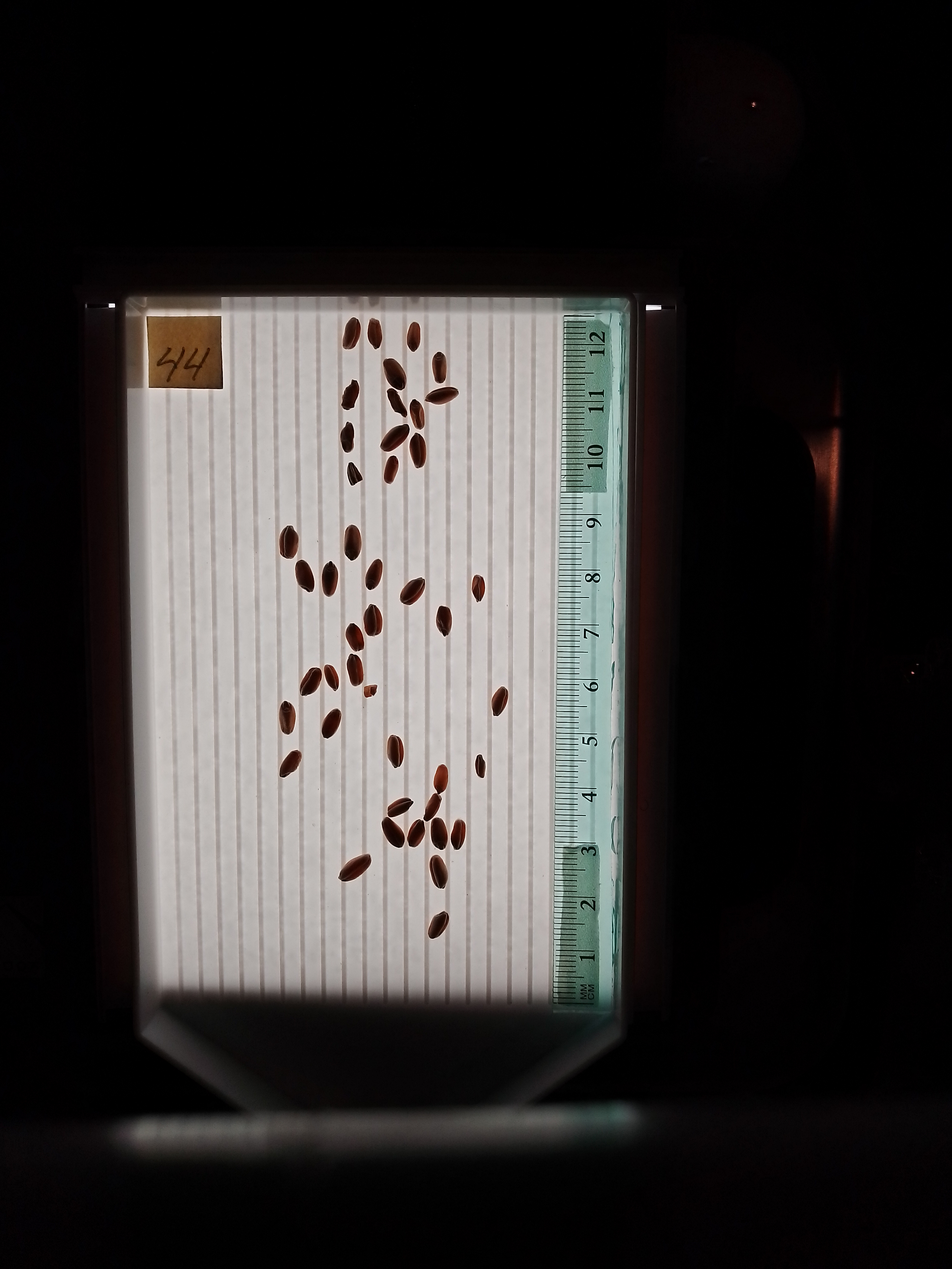seed mask: (340, 854, 371, 881), (383, 358, 406, 390), (381, 425, 408, 452), (382, 818, 405, 848), (401, 577, 424, 605), (279, 526, 298, 559), (296, 560, 314, 593), (279, 751, 301, 778), (364, 605, 383, 636), (321, 709, 341, 738), (344, 526, 361, 560), (300, 668, 321, 695), (409, 435, 426, 468), (321, 562, 338, 595), (430, 855, 447, 888), (427, 387, 458, 405), (428, 912, 449, 938), (279, 702, 296, 734), (387, 735, 404, 767), (431, 818, 448, 850), (365, 560, 383, 590), (343, 318, 360, 349), (347, 655, 364, 685), (408, 819, 425, 848), (367, 319, 383, 349), (342, 381, 359, 409), (491, 687, 508, 715), (387, 797, 412, 816), (346, 624, 363, 651), (433, 764, 448, 794), (437, 606, 452, 635), (451, 820, 466, 849), (388, 391, 406, 415), (340, 424, 355, 452), (407, 323, 421, 351), (410, 400, 424, 428), (384, 457, 399, 483), (425, 794, 440, 820), (433, 353, 446, 382), (324, 666, 339, 689), (472, 576, 485, 601)
